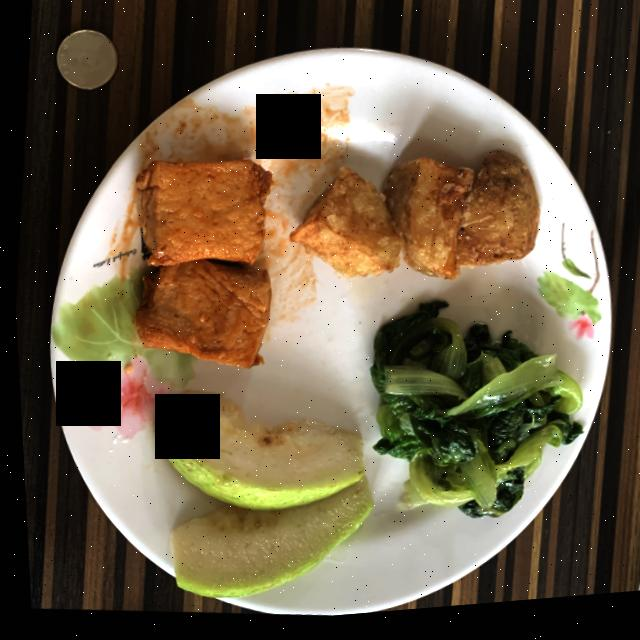coin: (55, 30, 116, 91)
creamy tofu: (131, 162, 269, 372)
fried potato: (287, 157, 537, 286)
guava -sliced-: (149, 392, 366, 601)
mustard greens: (365, 308, 577, 525)
